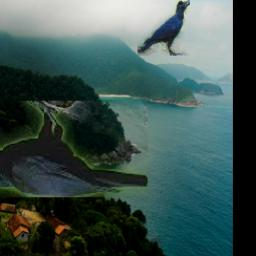Crow: (0, 101, 148, 197), (138, 1, 190, 57)
